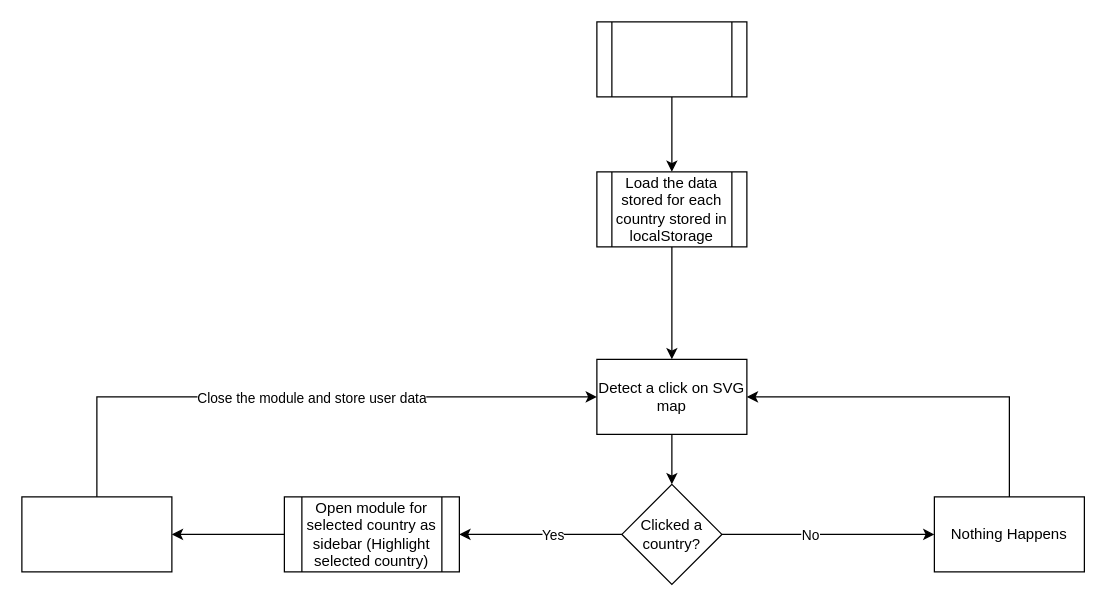
Image size: 1106x606. Some labels were removed from this diagram. Here are the shapes that lost their labels. From the top down, the centre of each, then its label:
At (x=671, y=59): "Open World Map SVG Module".
At (x=96, y=534): "Store labels, texts, & img (User Input) to selected country".
